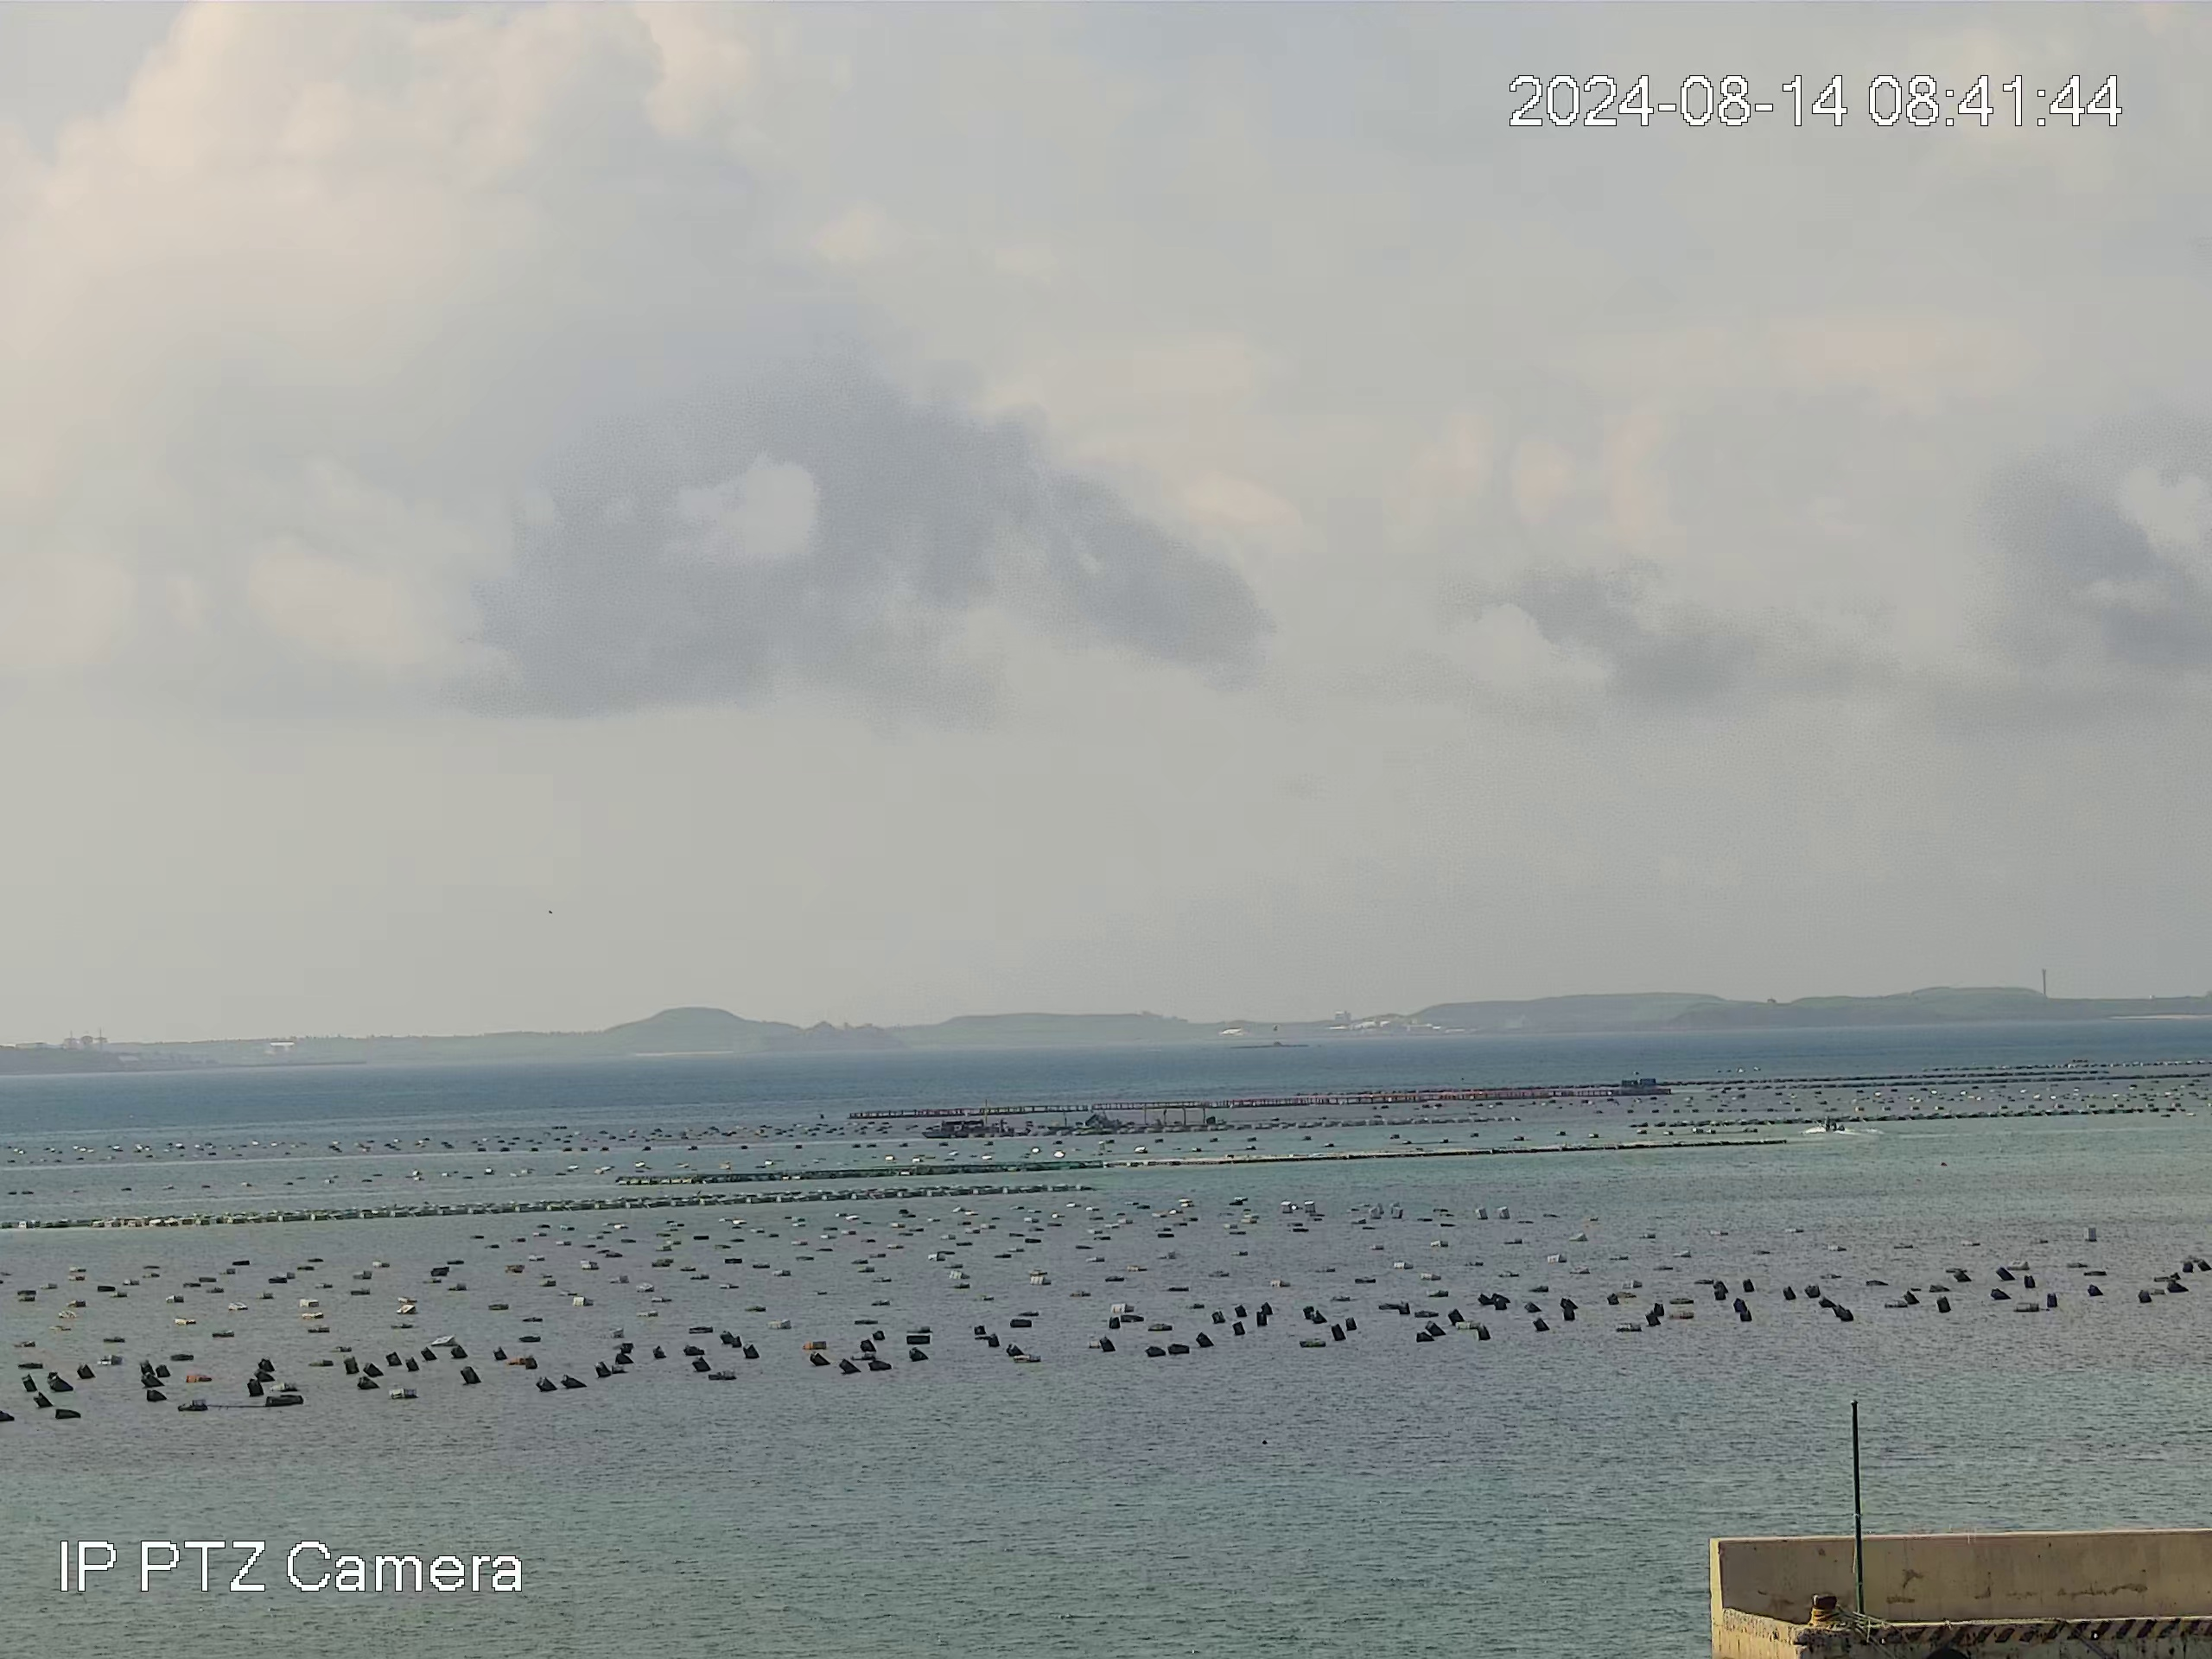boat: (923, 1117, 989, 1140), (1815, 1114, 1850, 1134)
